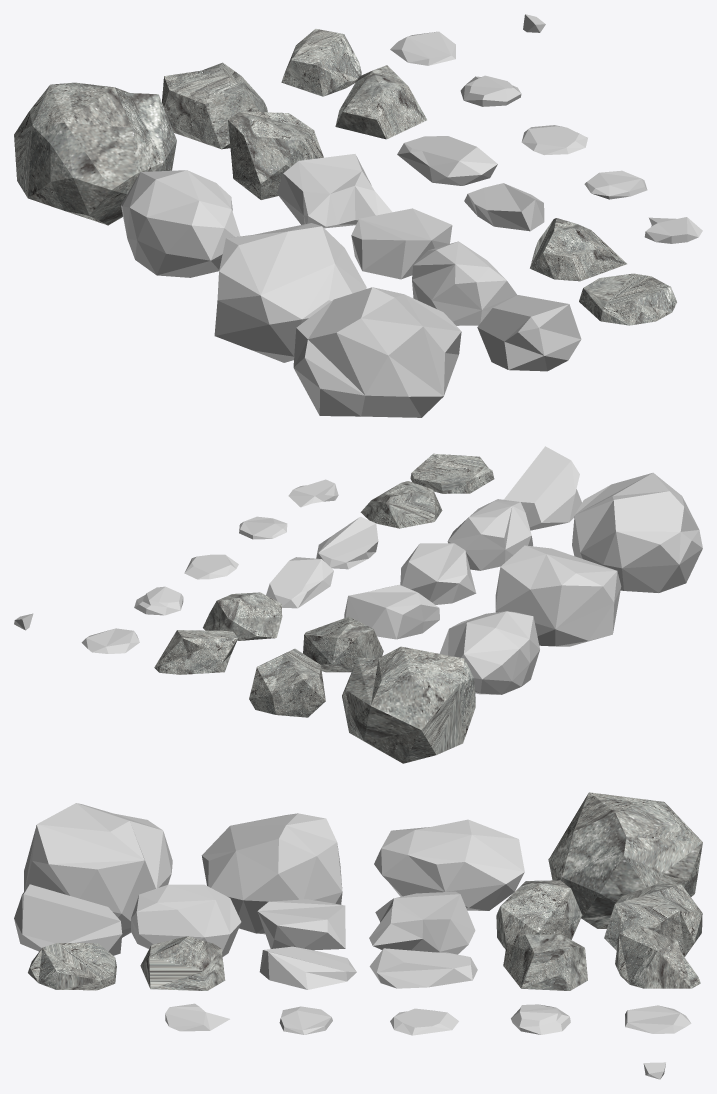
Rendered from rocks.fbx.
3 renders of one model, top to bottom at view 1: azimuth 30°, elevation 25°; view 2: azimuth 150°, elevation 25°; view 3: azimuth 270°, elevation 25°, orthographic. The views are drawn at different scales.
Parts seen in each view (by area): view 1: Icosphere.007, Icosphere.004, Icosphere.006, Icosphere.005, Icosphere.008, Icosphere.001, Icosphere.002, Cube.003, Cube.002, Cube, Cube.004, Cube.005 (+9 smaller); view 2: Icosphere.004, Icosphere.007, Icosphere.006, Icosphere.005, Icosphere.008, Cube.002, Icosphere.002, Icosphere.001, Cube, Cube.003, Cube.001, Cube.004 (+9 smaller); view 3: Icosphere.004, Icosphere.007, Icosphere.006, Icosphere.005, Icosphere.002, Icosphere.001, Icosphere.008, Cube.002, Cube.003, Cube.004, Cube, Cube.001 (+9 smaller).
Part boxes in pixels (x1=…): Icosphere.007: x1=293, y1=287, x2=461, y2=417; Icosphere.004: x1=14, y1=82, x2=176, y2=225; Icosphere.006: x1=214, y1=223, x2=366, y2=362; Icosphere.005: x1=121, y1=170, x2=240, y2=277; Icosphere.008: x1=477, y1=295, x2=581, y2=371; Icosphere.001: x1=277, y1=154, x2=392, y2=228; Icosphere.002: x1=412, y1=241, x2=516, y2=325; Cube.003: x1=228, y1=111, x2=323, y2=199; Cube.002: x1=162, y1=62, x2=267, y2=149; Cube: x1=351, y1=208, x2=452, y2=279; Cube.004: x1=335, y1=65, x2=426, y2=139; Cube.005: x1=530, y1=218, x2=626, y2=281; Icosphere.004: x1=342, y1=646, x2=475, y2=763; Icosphere.007: x1=572, y1=472, x2=702, y2=592; Icosphere.006: x1=495, y1=545, x2=621, y2=646; Icosphere.005: x1=439, y1=611, x2=539, y2=694; Icosphere.008: x1=504, y1=446, x2=581, y2=530; Cube.002: x1=249, y1=648, x2=325, y2=717; Icosphere.002: x1=447, y1=499, x2=532, y2=570; Icosphere.001: x1=344, y1=584, x2=439, y2=639; Cube: x1=400, y1=543, x2=476, y2=604; Cube.003: x1=303, y1=616, x2=383, y2=672; Cube.001: x1=154, y1=630, x2=237, y2=674; Cube.004: x1=203, y1=592, x2=282, y2=640; Icosphere.004: x1=548, y1=792, x2=702, y2=928; Icosphere.007: x1=24, y1=803, x2=172, y2=937; Icosphere.006: x1=201, y1=813, x2=342, y2=934; Icosphere.005: x1=374, y1=819, x2=524, y2=910; Icosphere.002: x1=131, y1=884, x2=241, y2=956; Icosphere.001: x1=369, y1=891, x2=475, y2=954; Icosphere.008: x1=14, y1=884, x2=122, y2=955; Cube.002: x1=604, y1=884, x2=702, y2=956; Cube.003: x1=496, y1=880, x2=582, y2=949; Cube.004: x1=503, y1=934, x2=587, y2=990; Cube: x1=257, y1=899, x2=345, y2=950; Cube.001: x1=615, y1=924, x2=700, y2=988.
Bounding box in the file's own units: 9.87 × 2.24 × 11.78.
